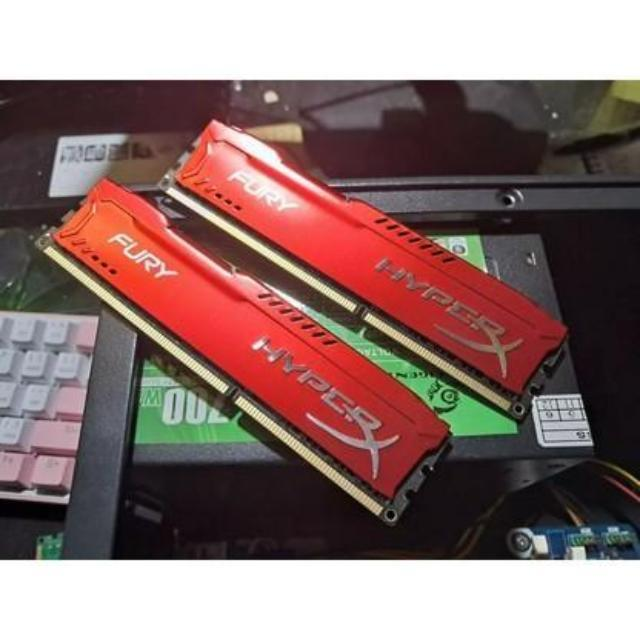RAM: (34, 174, 458, 528), (157, 110, 583, 418)
